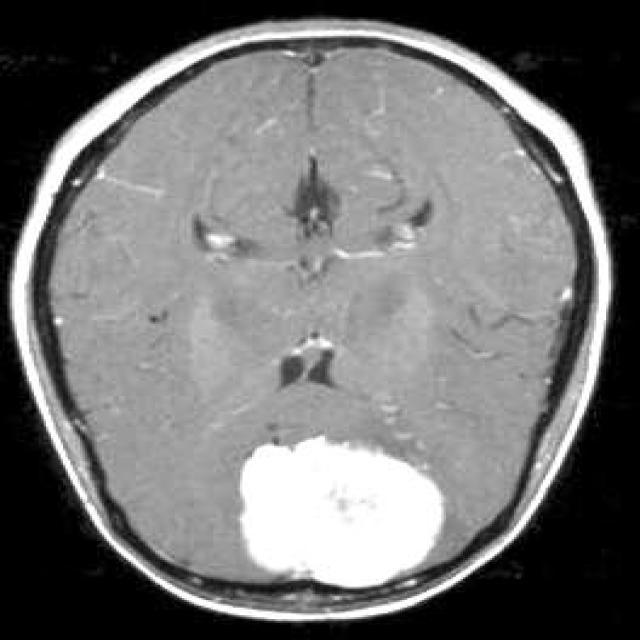brain tumor: (240, 436, 441, 585)
